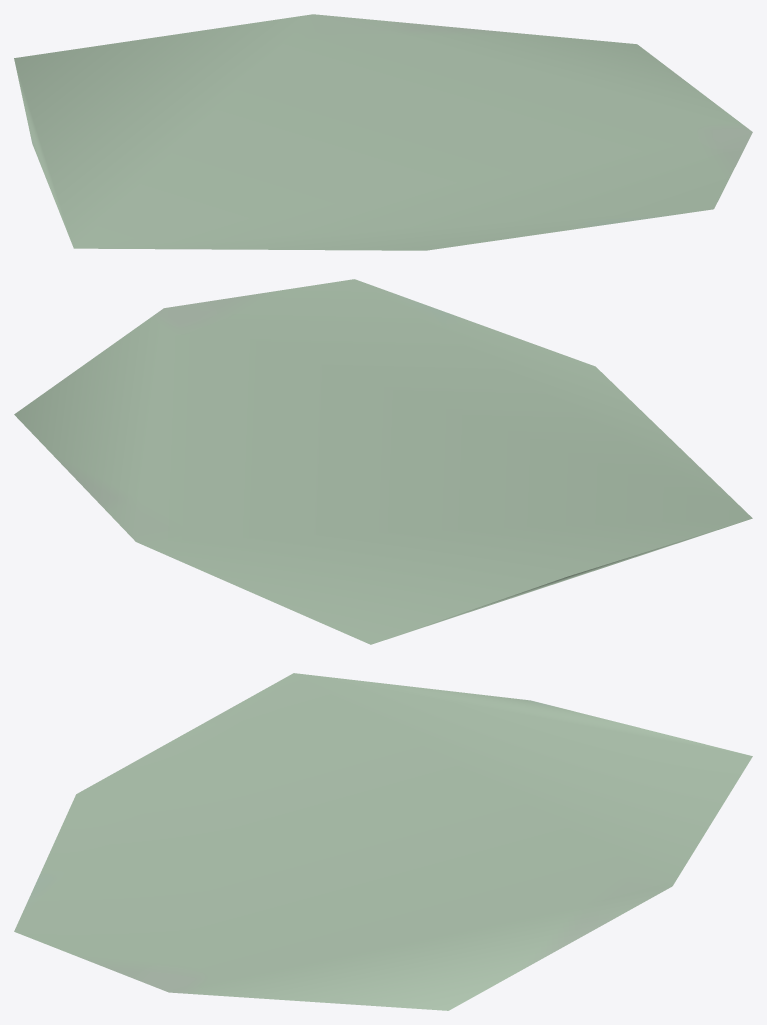
File: TROLLHOLE02_HOLECAP149.fbx
3 views of the same model, one above another, from view 1: azimuth 30°, elevation 25°; view 2: azimuth 150°, elevation 25°; view 3: azimuth 270°, elevation 25° (orthographic). The views are drawn at different scales.
Parts seen in each view (by area): view 1: TROLLHOLE02_HOLECAP149; view 2: TROLLHOLE02_HOLECAP149; view 3: TROLLHOLE02_HOLECAP149.
Boxes of the visible parts, <box> form: TROLLHOLE02_HOLECAP149: <box>14,14,752,250</box>; TROLLHOLE02_HOLECAP149: <box>14,279,752,644</box>; TROLLHOLE02_HOLECAP149: <box>14,673,752,1010</box>.
Size of the model in its own units: 43678 by 878 by 40766.
Materials: 1 (1 with a texture image).
